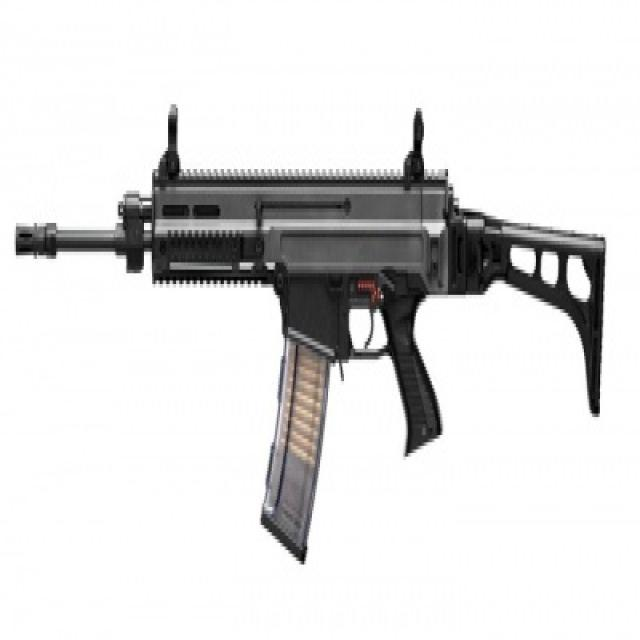rifle: (14, 103, 610, 572)
